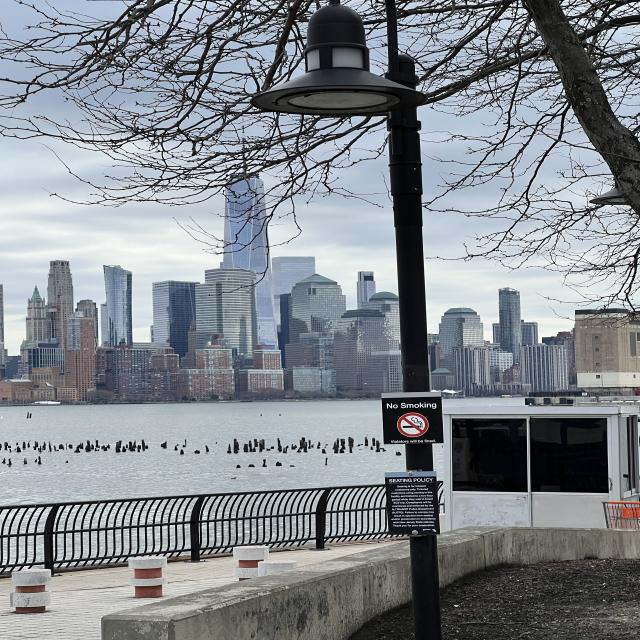WTC: (222, 119, 268, 270)
